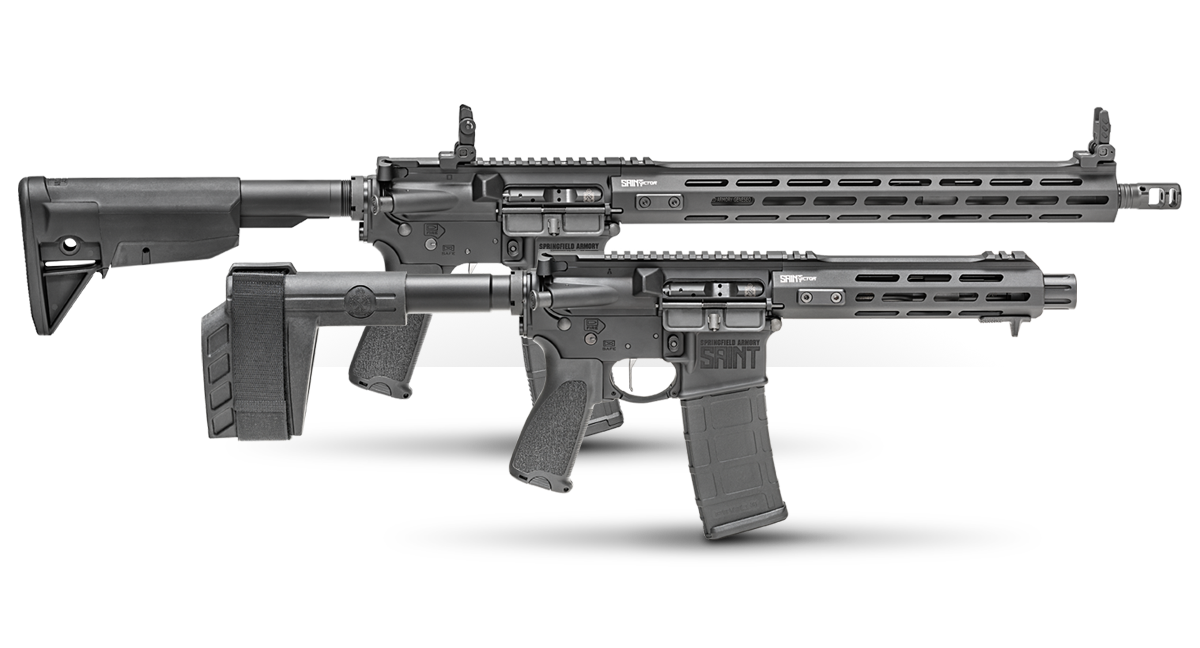Gun: (295, 247, 1006, 443)
